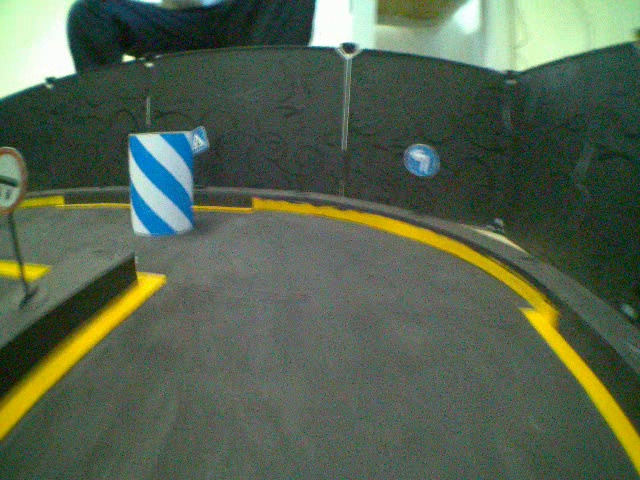bucket: (123, 130, 197, 239)
